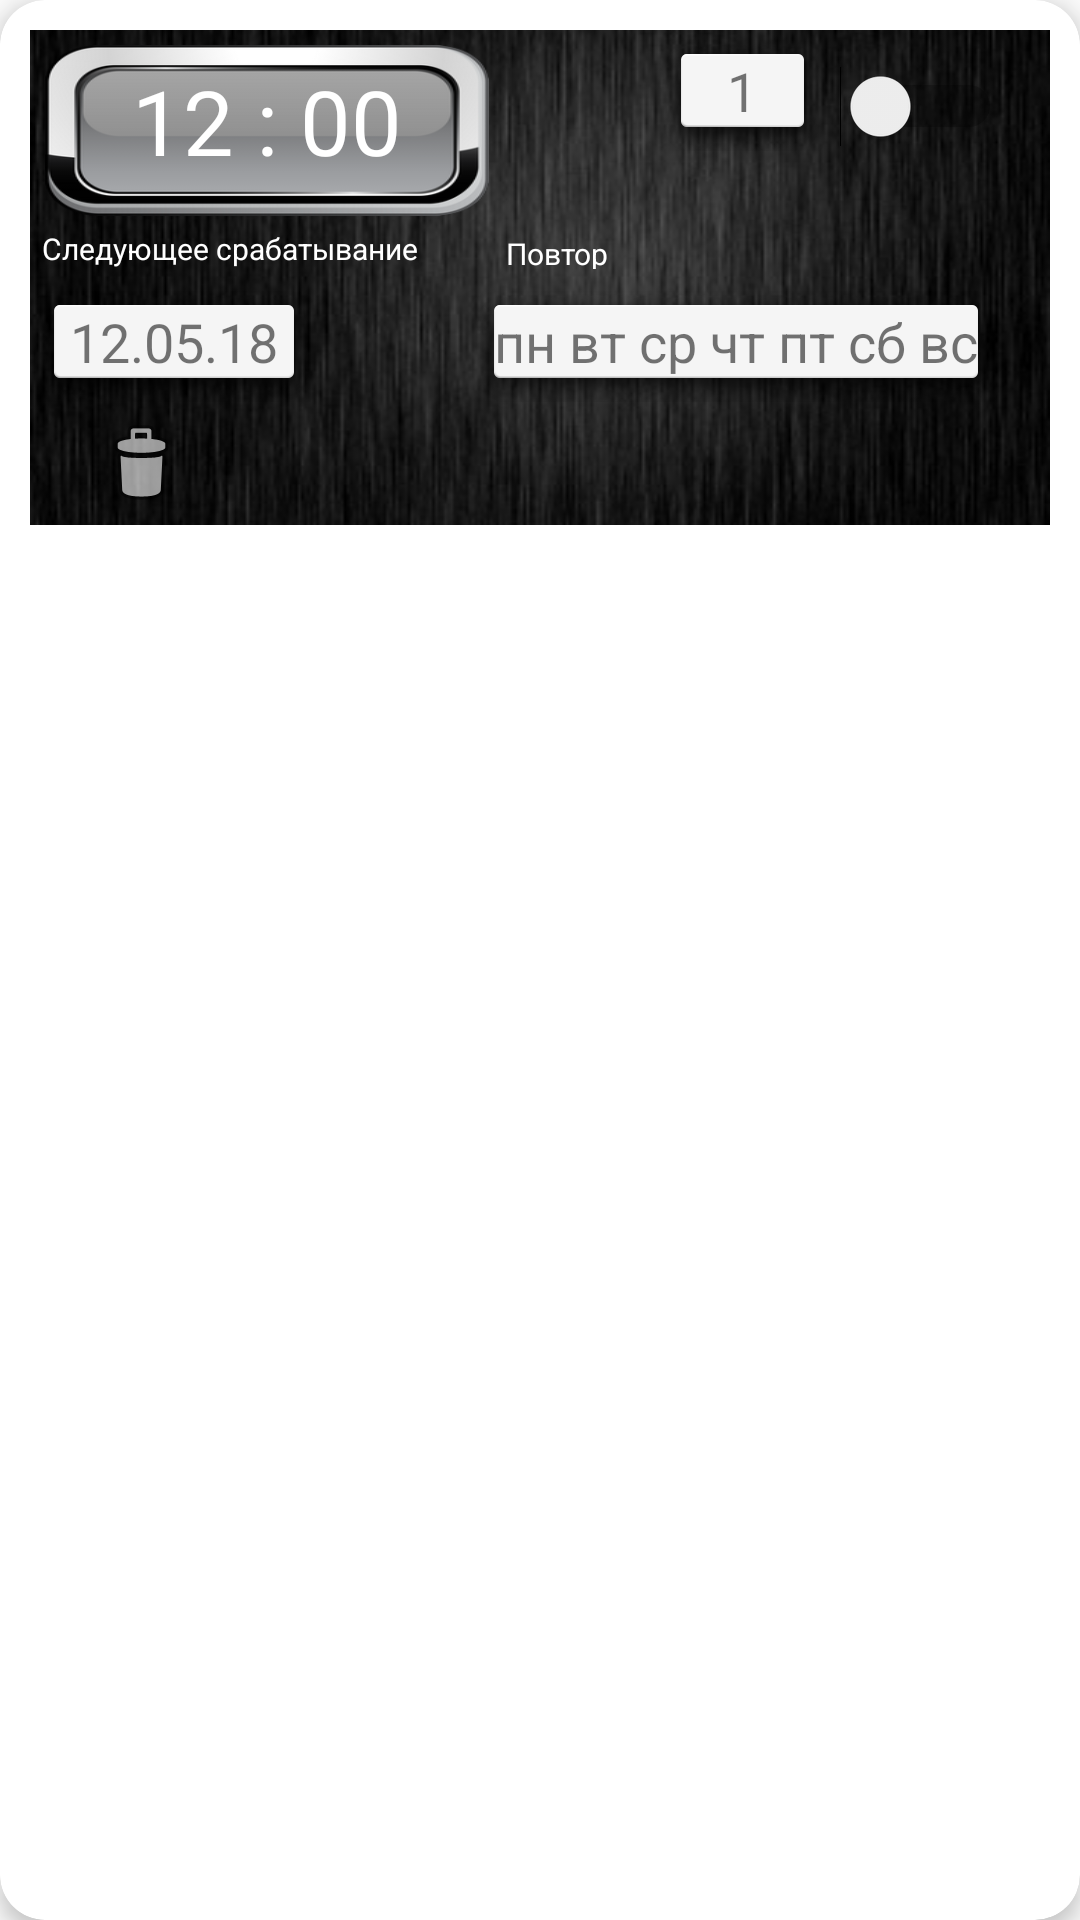

Screen size 1080 × 1920. Icon name, then its center in pixels as (x,y):
delete: (141,462)
